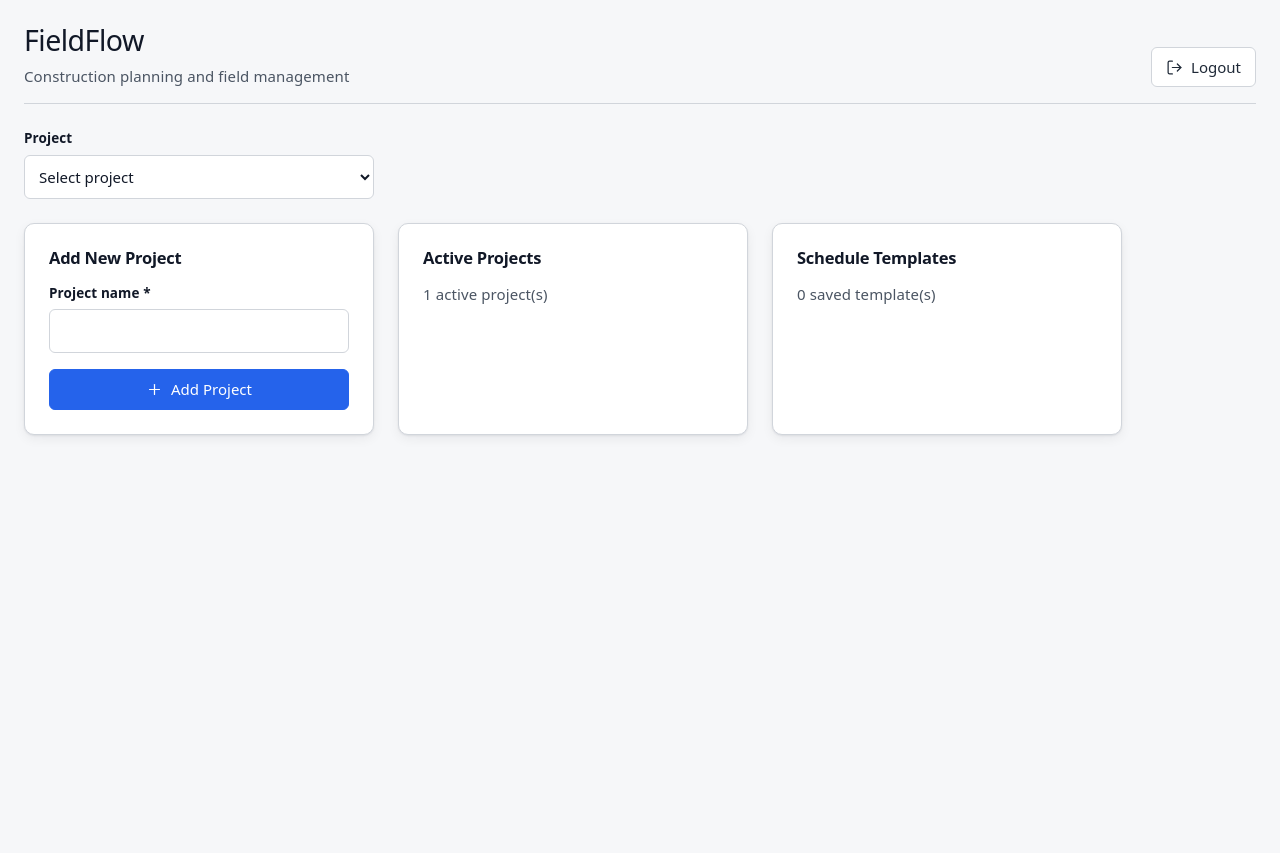
Test: App integration (hooks wiring) › routes to the project document explorer without loading attachment panels
This screenshot has width=1280, height=853.
Select "Riverside" in the dropdown labelled "Project": {"x": 199, "y": 176} [24,154,374,198]
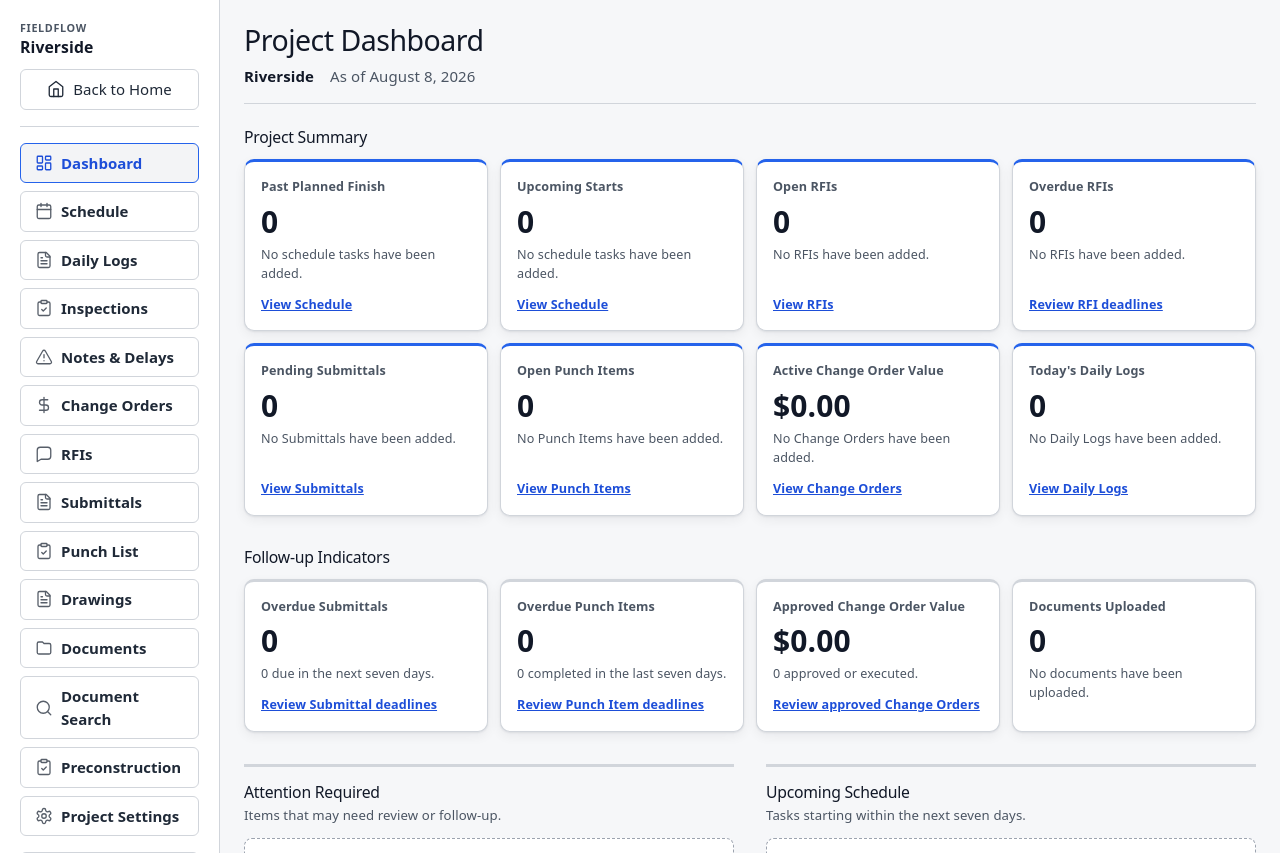
Result: the heading "Project Dashboard" is shown at [244,24,484,57]
Click the button "Documents": {"x": 110, "y": 648} [20,628,199,668]
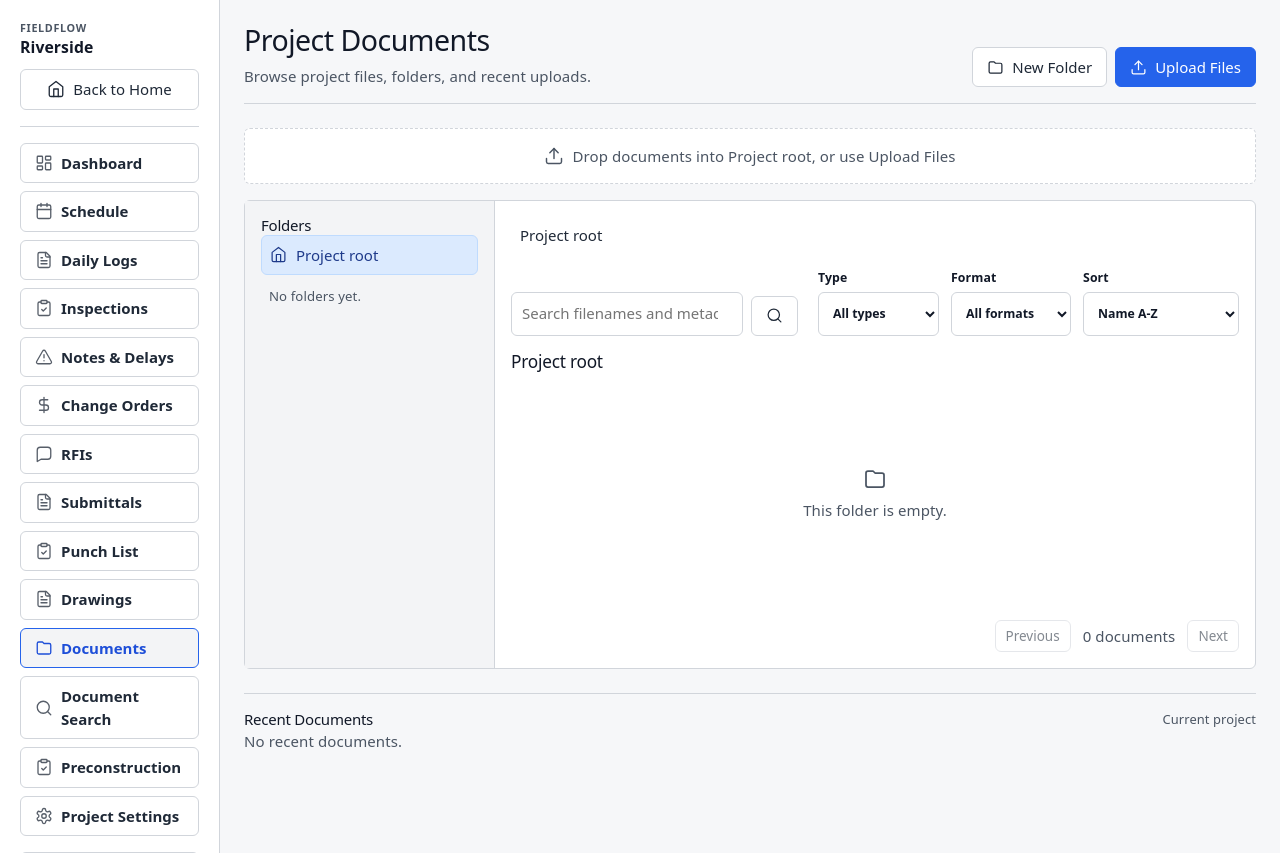
Result: the heading "Project Documents" is shown at [244,21,490,59]
